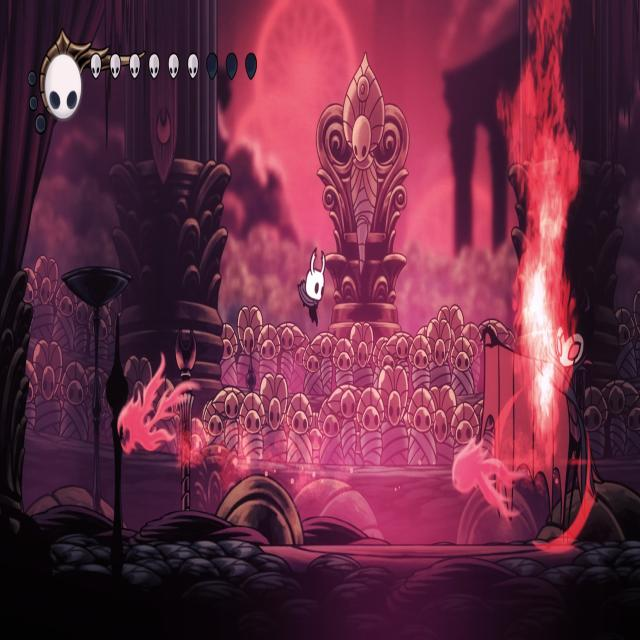Fire Bat: (118, 353, 195, 453), (452, 438, 524, 518)
Open Cloak: (474, 290, 600, 546)
Player: (294, 239, 333, 332)
